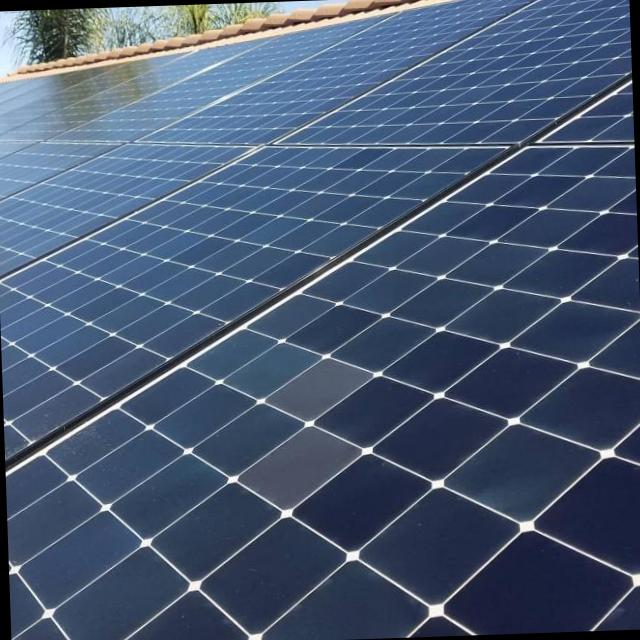no faulty: (5, 149, 640, 640), (0, 145, 506, 461), (147, 0, 533, 142), (284, 0, 632, 144), (52, 14, 403, 138), (0, 143, 252, 274), (0, 140, 122, 195), (542, 81, 632, 144)
